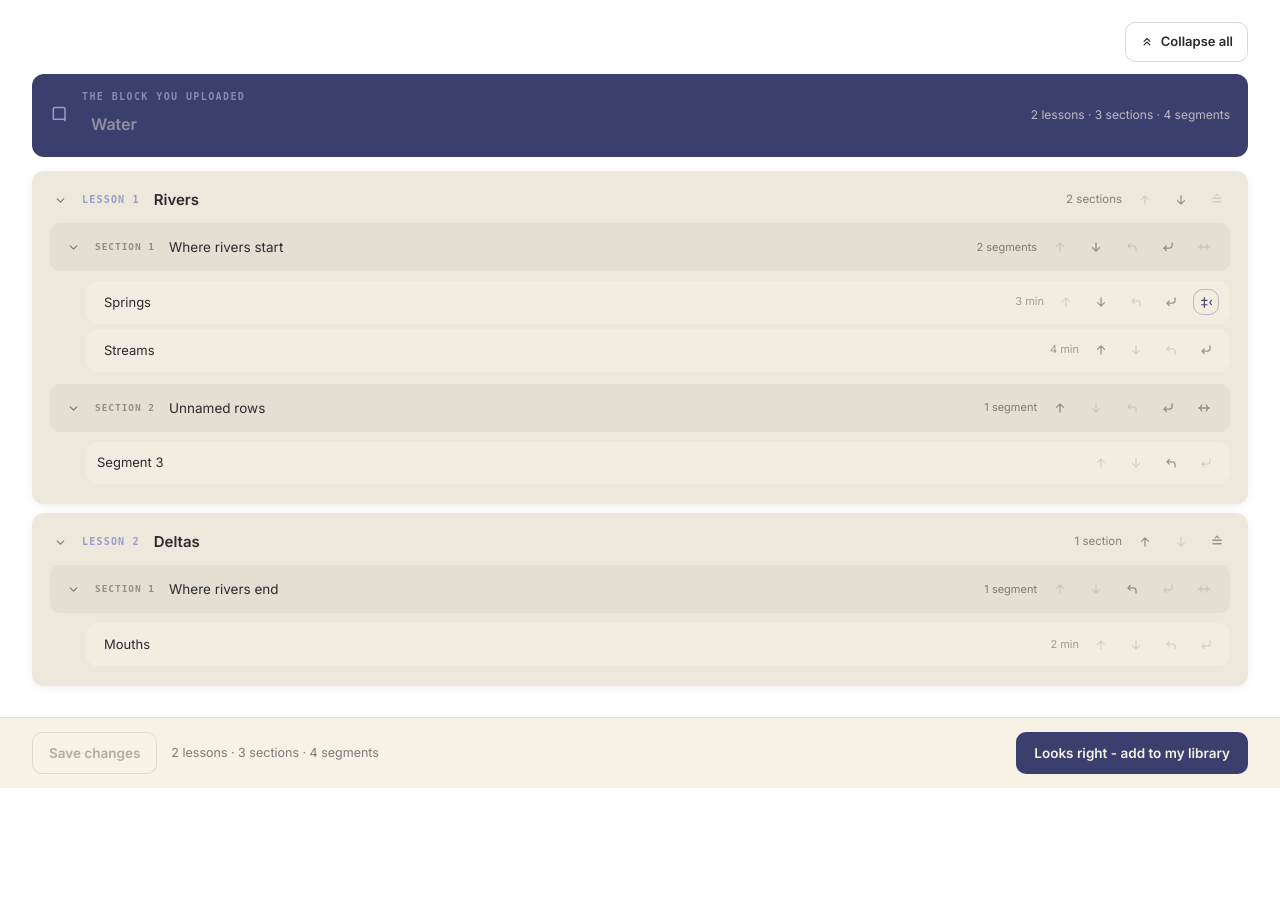
Test case: adding with unsaved changes › asks nothing when the save failed, and says why
Replace the text in the field named "Lesson 1 title" with "Rivers and streams" at (603, 200), box [150,186,1056,213]
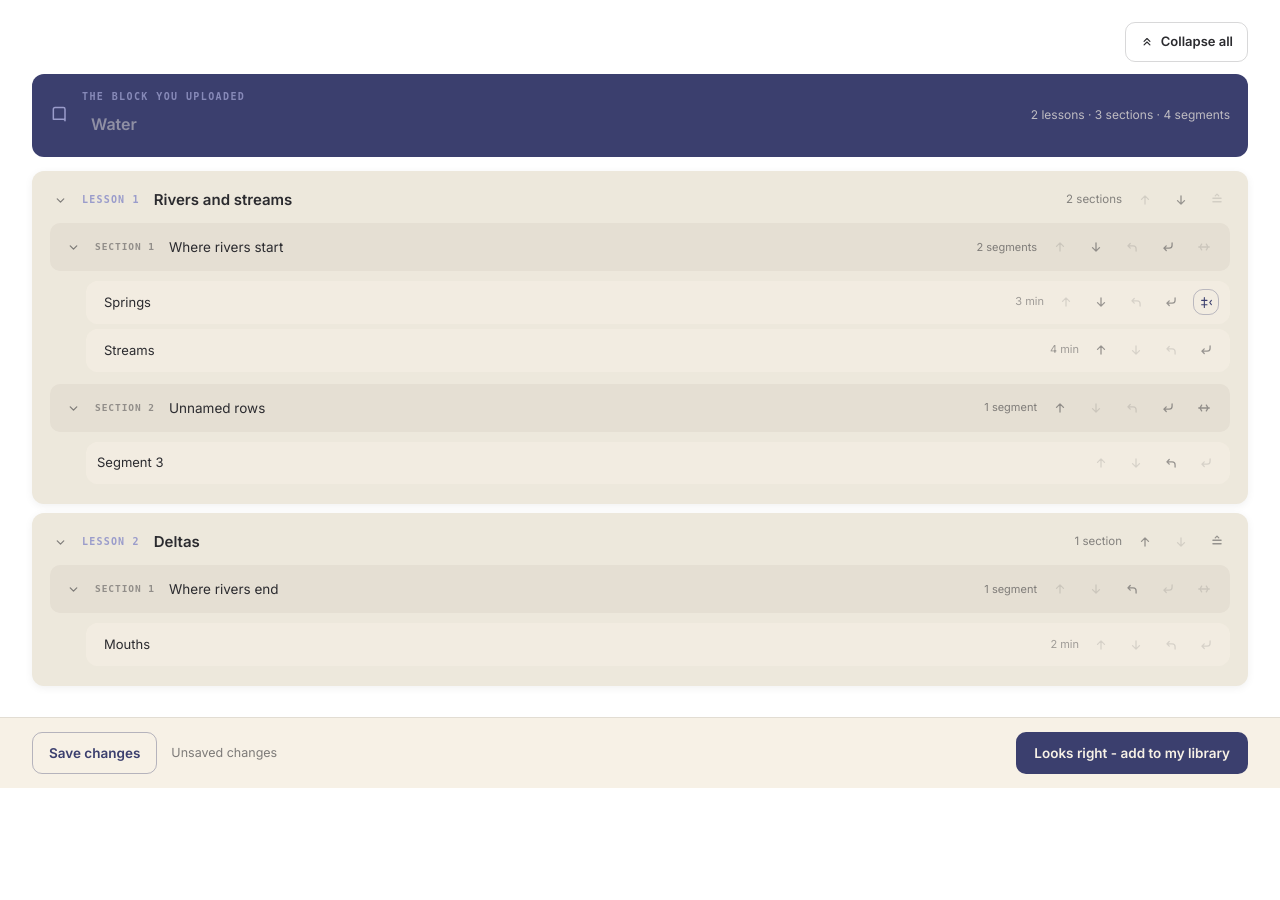
Click the button "Looks right - add to my library" at (1132, 753), box [1016,732,1248,774]
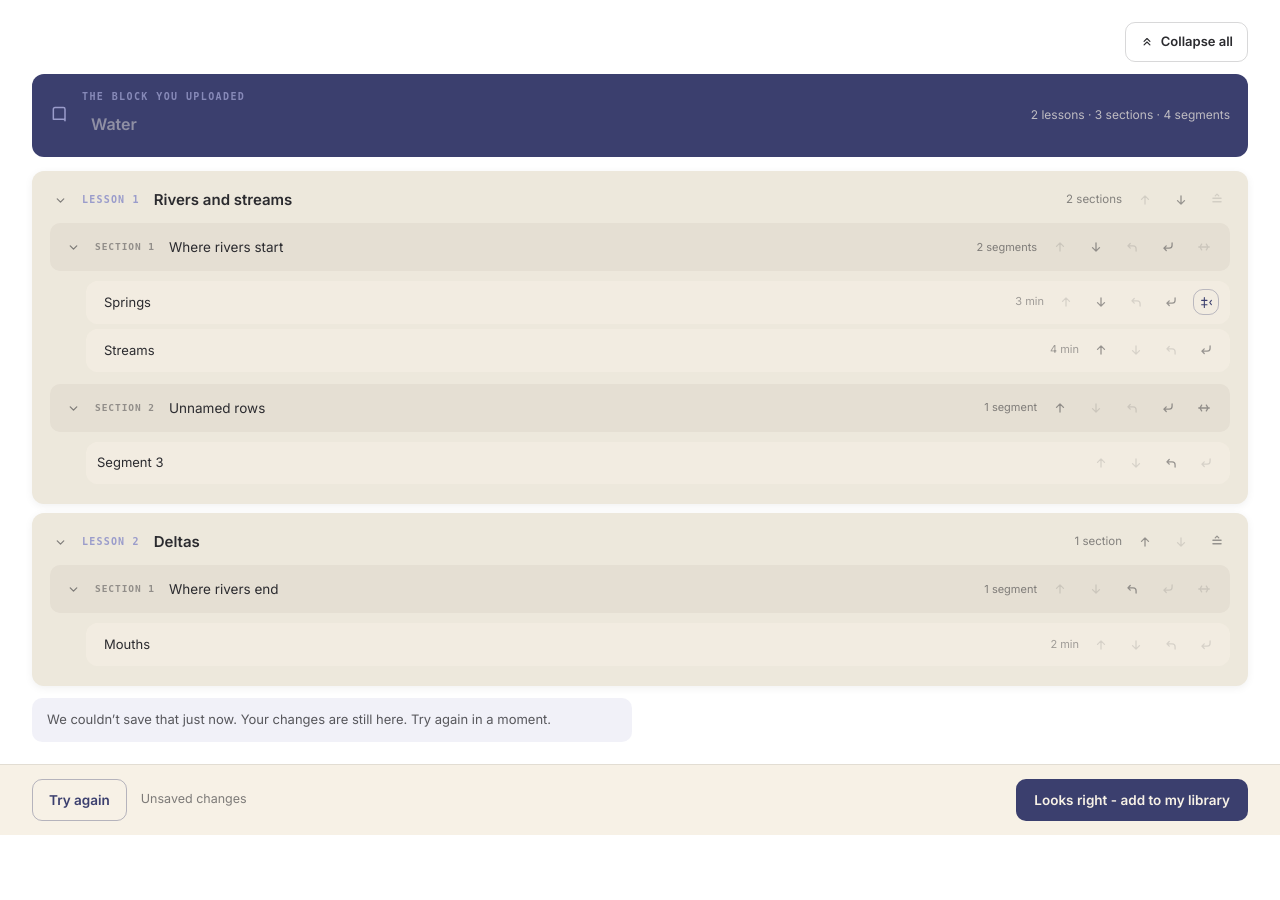
Check: the text "couldn.t save that just now" is shown, box [47,711,551,727]
